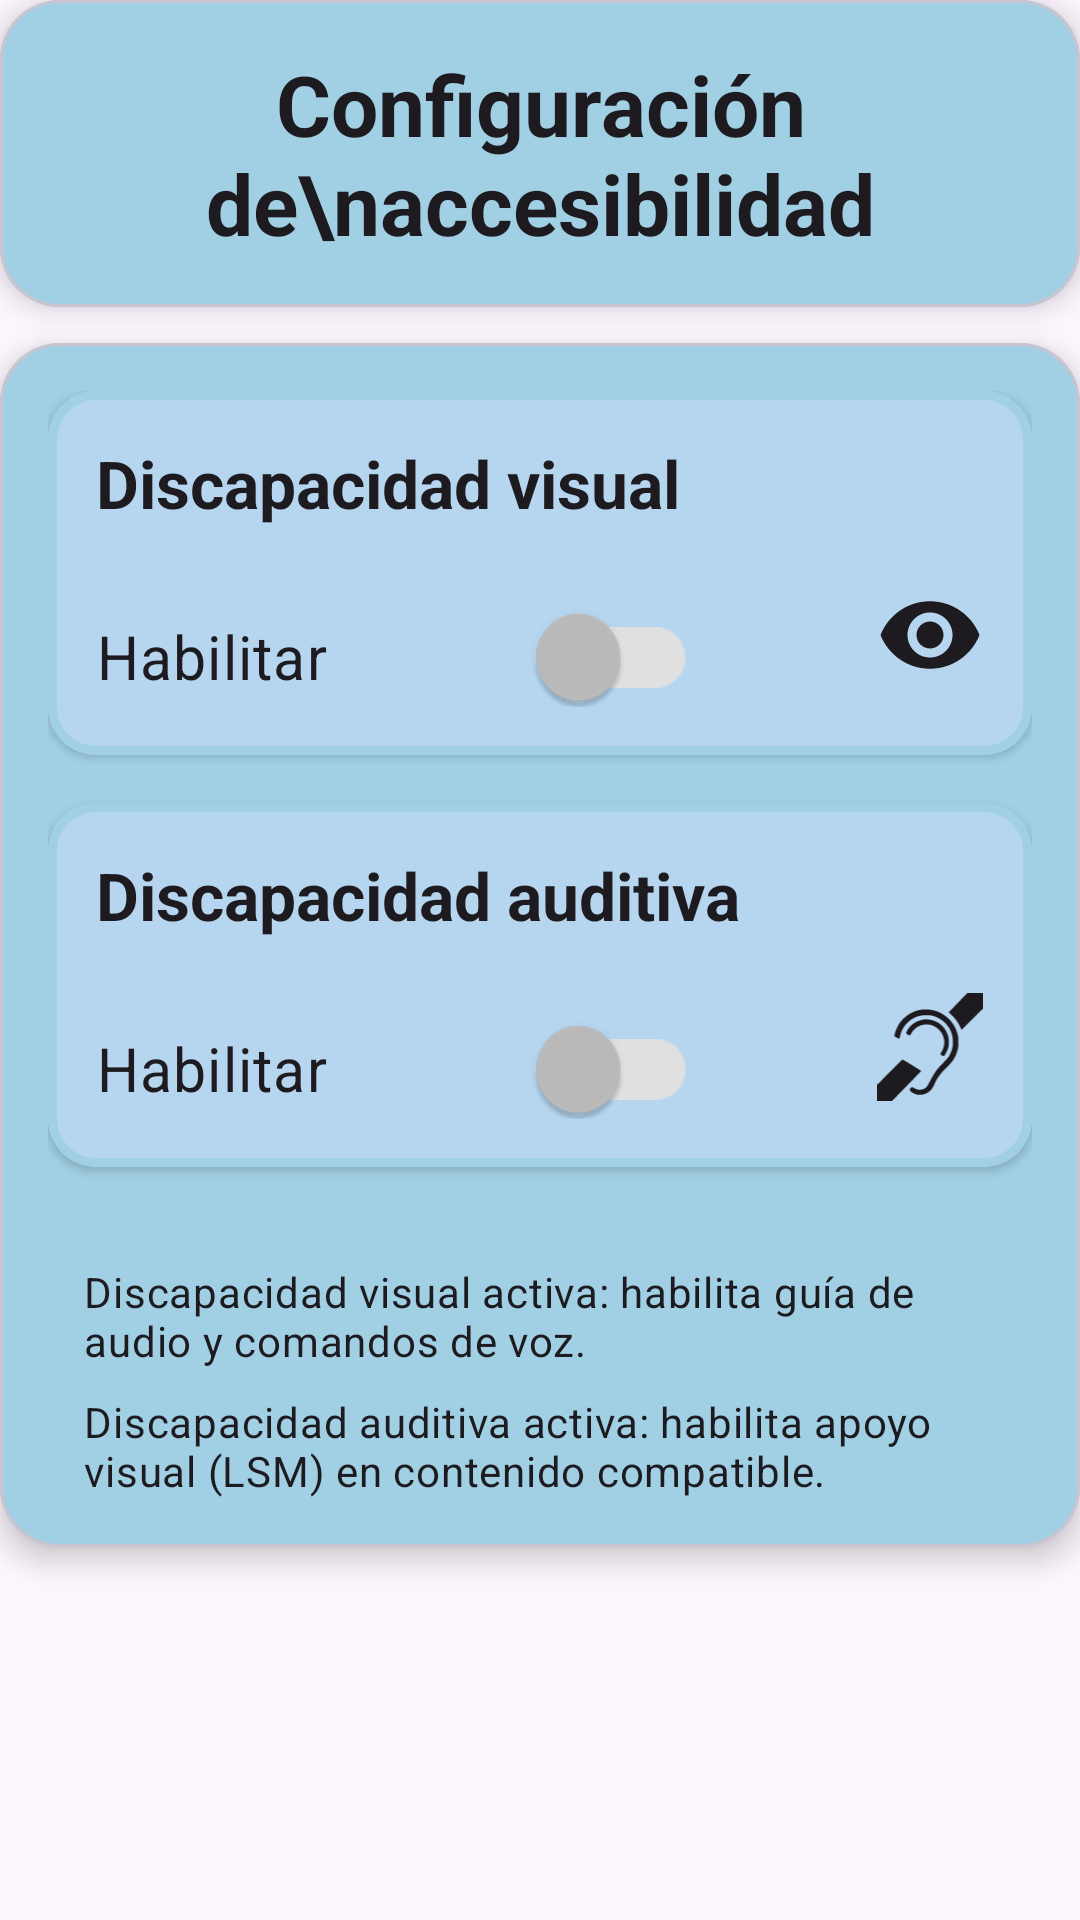

Named icons in this screenshot (1080*1920) and their centers, [x,y]:
eye: [930,635]
